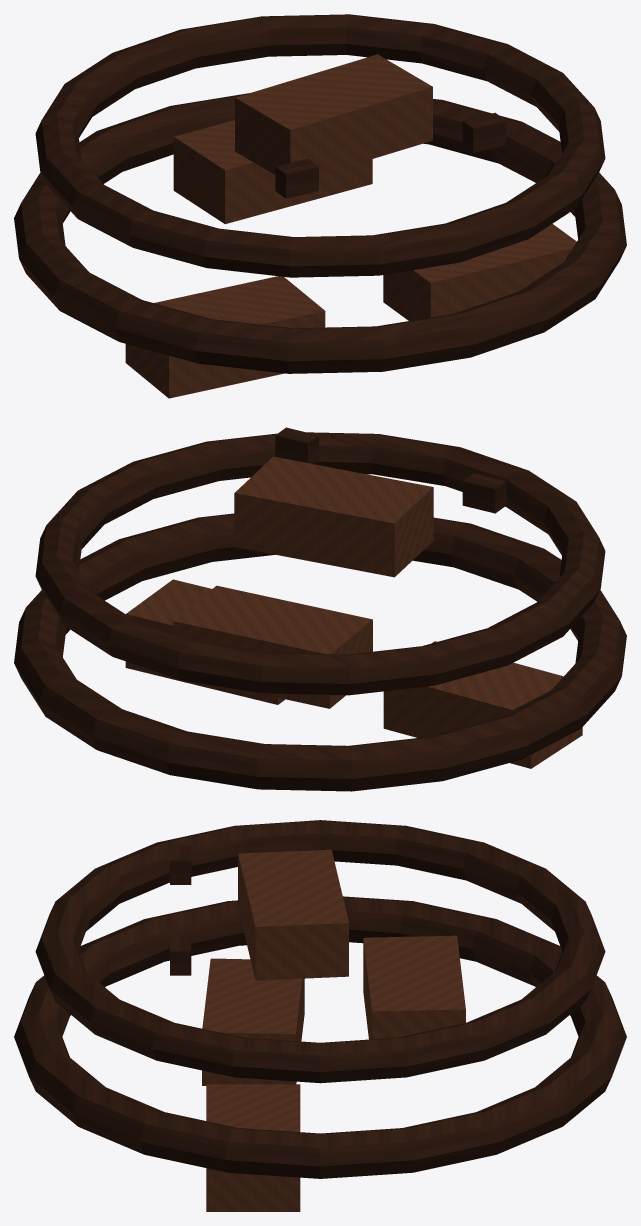
The model's file is underworld-refined-emberiron-bar.glb.
3 views of the same model, one above another, from view 1: azimuth 30°, elevation 25°; view 2: azimuth 150°, elevation 25°; view 3: azimuth 270°, elevation 25° (orthographic).
Parts seen in each view (by area): view 1: bundle-band-high, bundle-band-low, bar-3, bar-0, bar-2, bar-1, stamp-1, stamp-0; view 2: bundle-band-low, bundle-band-high, bar-3, bar-2, bar-0, bar-1, stamp-0, stamp-1; view 3: bundle-band-low, bundle-band-high, bar-3, bar-2, bar-1, bar-0, stamp-0, stamp-1.
Boxes of the visible parts, bbox=[...] form: bundle-band-high: bbox=[35, 14, 605, 277]; bundle-band-low: bbox=[14, 93, 626, 373]; bar-3: bbox=[235, 54, 432, 174]; bar-0: bbox=[125, 276, 325, 398]; bar-2: bbox=[173, 120, 372, 224]; bar-1: bbox=[383, 224, 576, 320]; stamp-1: bbox=[462, 112, 506, 152]; stamp-0: bbox=[275, 158, 318, 198]; bundle-band-low: bbox=[14, 513, 626, 791]; bundle-band-high: bbox=[35, 432, 605, 695]; bar-3: bbox=[234, 456, 433, 577]; bar-2: bbox=[173, 585, 372, 708]; bar-0: bbox=[383, 641, 582, 768]; bar-1: bbox=[125, 579, 285, 704]; stamp-0: bbox=[462, 473, 506, 513]; stamp-1: bbox=[275, 427, 318, 463]; bundle-band-low: bbox=[14, 896, 626, 1178]; bundle-band-high: bbox=[35, 820, 605, 1083]; bar-3: bbox=[238, 849, 348, 980]; bar-2: bbox=[363, 935, 465, 1039]; bar-1: bbox=[206, 1084, 300, 1211]; bar-0: bbox=[202, 958, 304, 1085]; stamp-0: bbox=[170, 844, 191, 884]; stamp-1: bbox=[170, 935, 191, 975].
Size of the model in its own units: 0.228 by 0.092 by 0.228.
2 materials, 2 textured.
